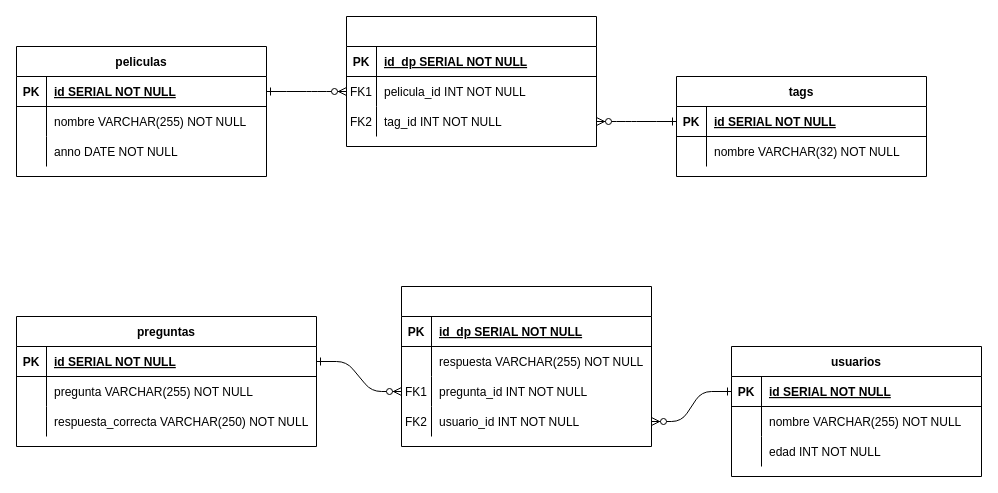
The diagram is 998 pixels wide and 493 high, and some of its shapes have lost their labels. The shapes that lost their labels are listed below. From the top down, each one's box as (x1, y1, x2, y2) in pixels, then its label:
(346, 16, 596, 146): detalle_pelicula
(400, 286, 652, 446): respustas
